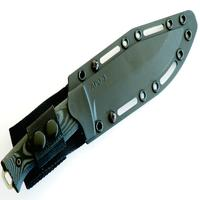knife: (4, 4, 200, 189)
